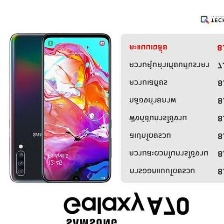phone: (39, 29, 114, 187), (8, 30, 78, 185)
